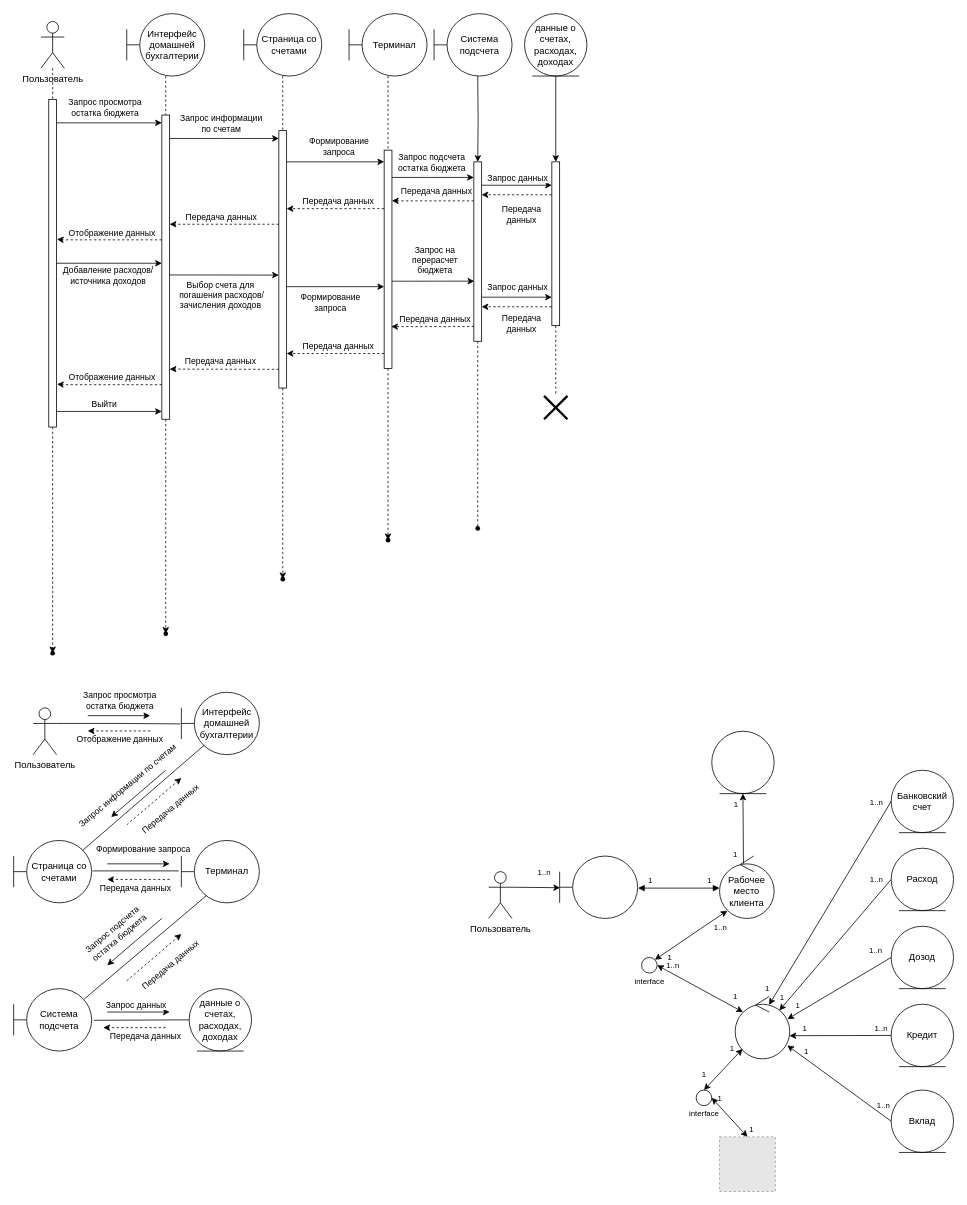
The diagram is 967 pixels wide and 1205 high, and some of its shapes have lost their labels. Grey dashed boxes stand in for pictures. The shapes that lost their labels are listed below. From the top down, each one's box as (x1, y1, x2, y2) in pixels, then its label:
(711, 730, 774, 794): Браузер
(559, 855, 638, 918): Интерфейс приложения
(734, 996, 790, 1059): Сервер
